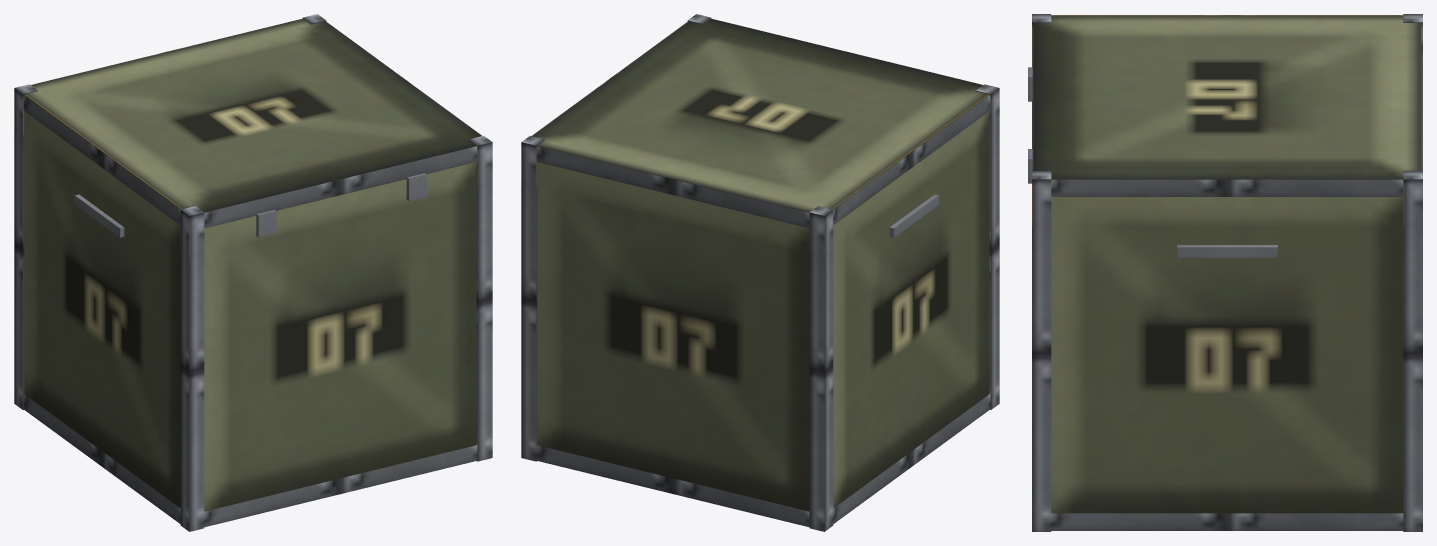
File: crate_station.obj
3 renders of one model, left to right at view 1: azimuth 30°, elevation 25°; view 2: azimuth 150°, elevation 25°; view 3: azimuth 270°, elevation 25°, orthographic. The views are drawn at different scales.
Parts seen in each view (by area): view 1: crate_station; view 2: crate_station; view 3: crate_station.
Boxes of the visible parts, x1=… form: crate_station: x1=14, y1=14, x2=492, y2=531; crate_station: x1=521, y1=14, x2=999, y2=531; crate_station: x1=1028, y1=14, x2=1422, y2=531.
Bounding box in the file's own units: 1.04 × 1 × 1.02.
Materials: 1 (1 with a texture image).
